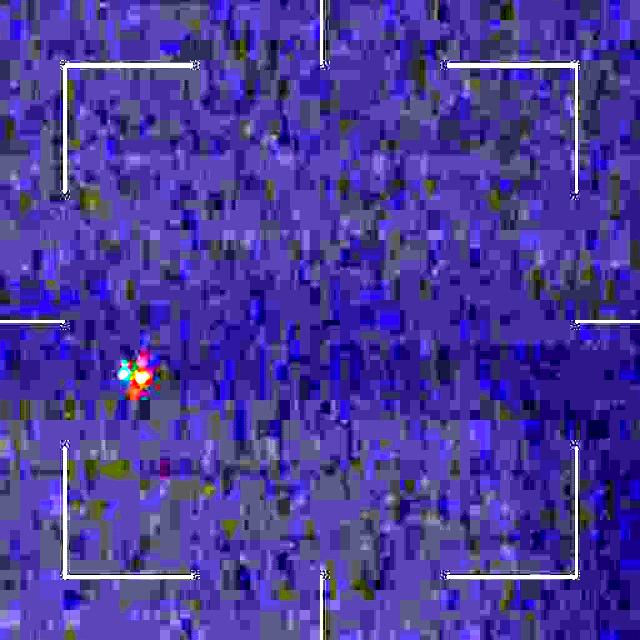bird: (118, 354, 151, 402)
